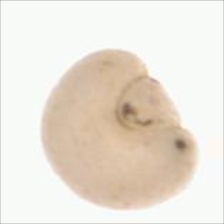L5: (113, 74, 181, 132)
L6: (36, 47, 201, 212)
